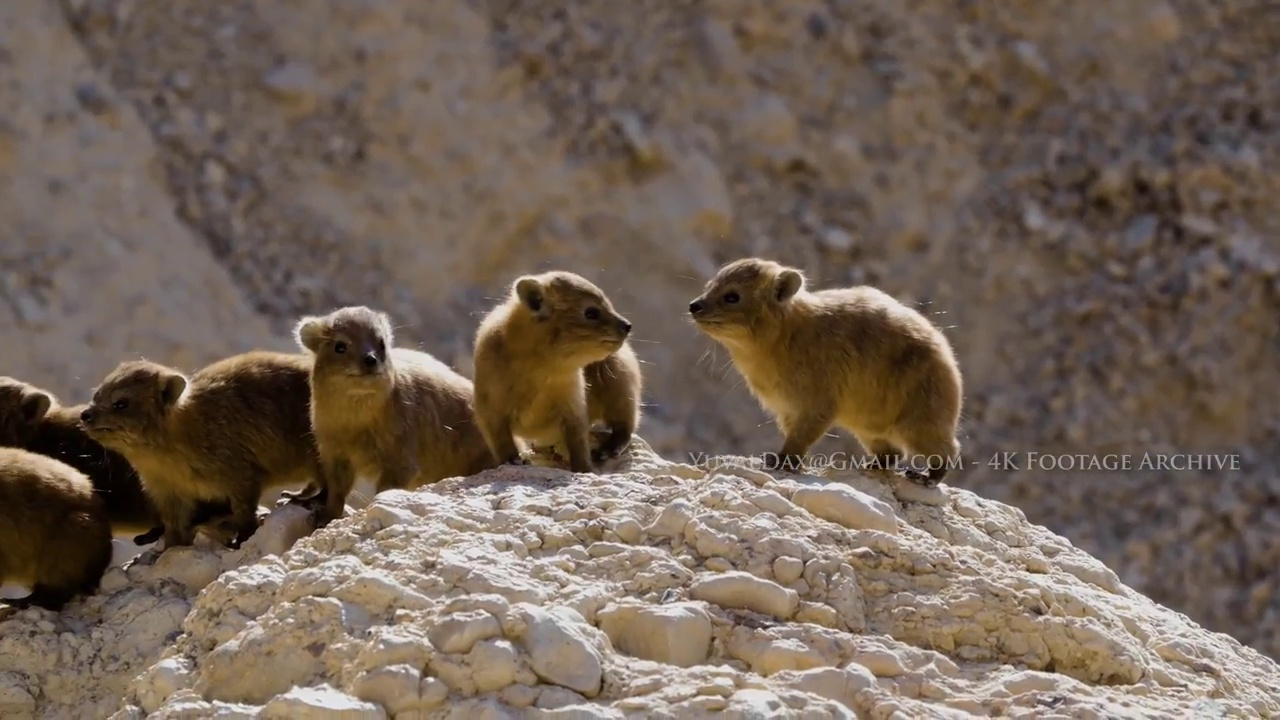Rock Hyrex: (682, 254, 966, 488), (76, 343, 321, 554), (290, 300, 506, 517), (466, 267, 641, 473), (2, 376, 166, 549), (1, 446, 115, 604)
